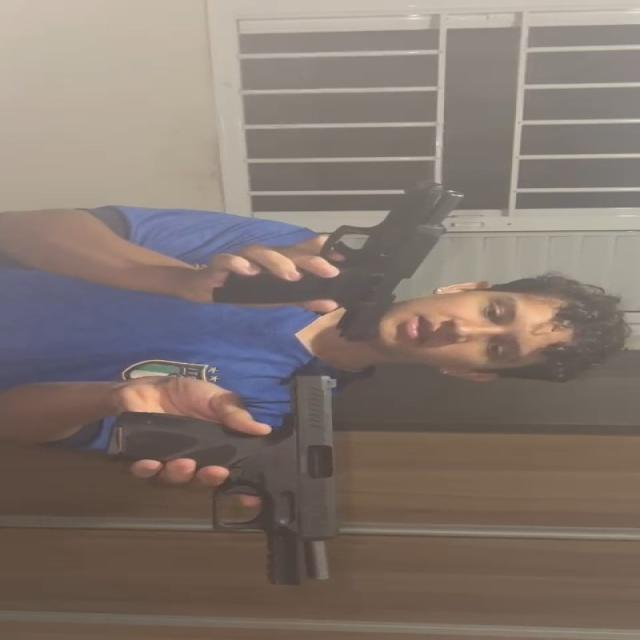gun: (102, 369, 344, 584), (200, 178, 468, 338)
